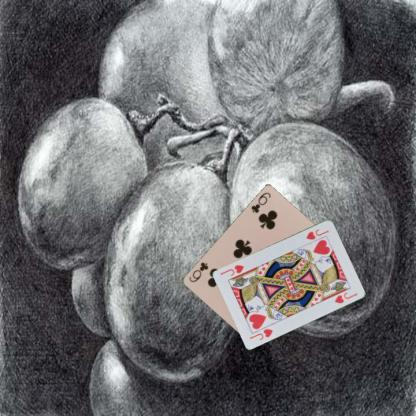6c: (249, 190, 272, 214)
Jh: (303, 226, 330, 241), (247, 326, 274, 341)
